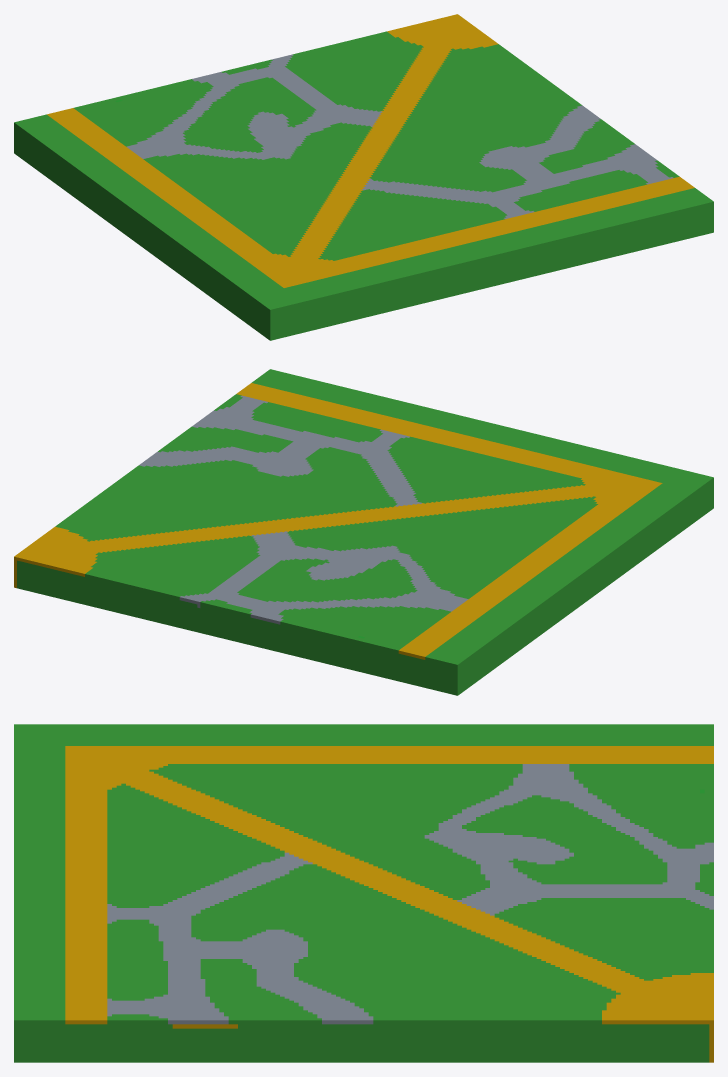
File: map_Third-12.obj
3 renders of one model, top to bottom at view 1: azimuth 30°, elevation 25°; view 2: azimuth 150°, elevation 25°; view 3: azimuth 270°, elevation 25°, orthographic. The views are drawn at different scales.
Size of the model in its own units: 15 by 1 by 15.
1 material, 1 textured.
